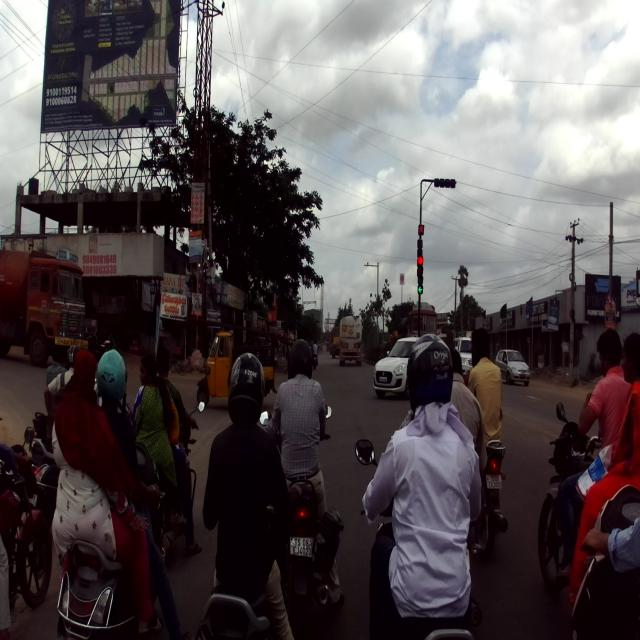motorcycle_Hero: (537, 399, 605, 594), (284, 458, 348, 629), (468, 438, 508, 560)
scooter: (55, 442, 167, 638)
